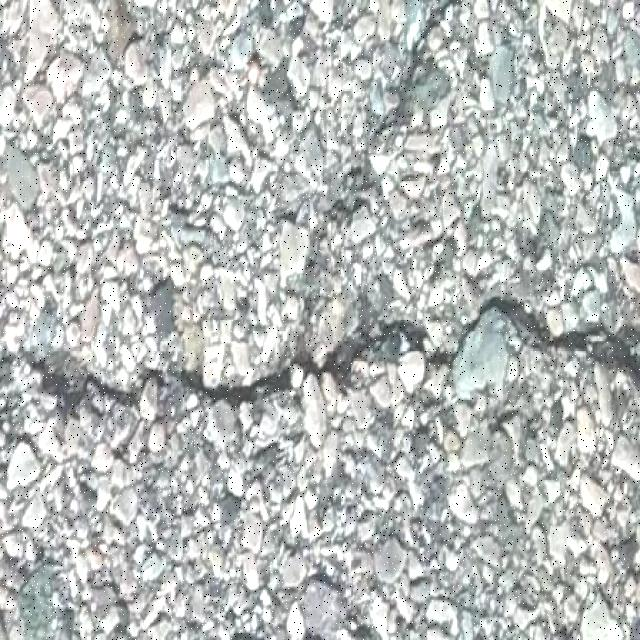Crack: (14, 296, 639, 427), (302, 0, 458, 307), (276, 572, 371, 639), (0, 406, 41, 459), (231, 631, 264, 639), (296, 631, 328, 639)
